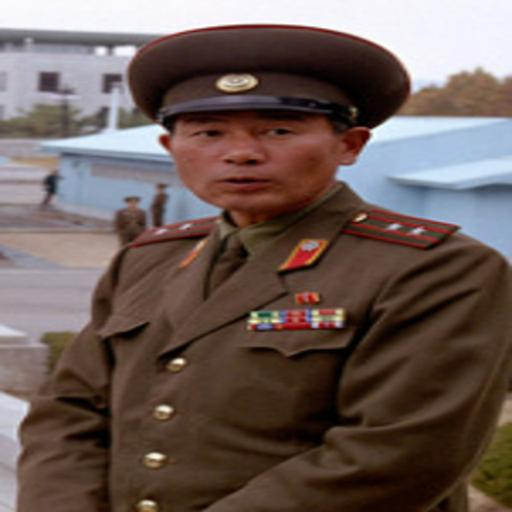north army: (51, 54, 512, 512)
